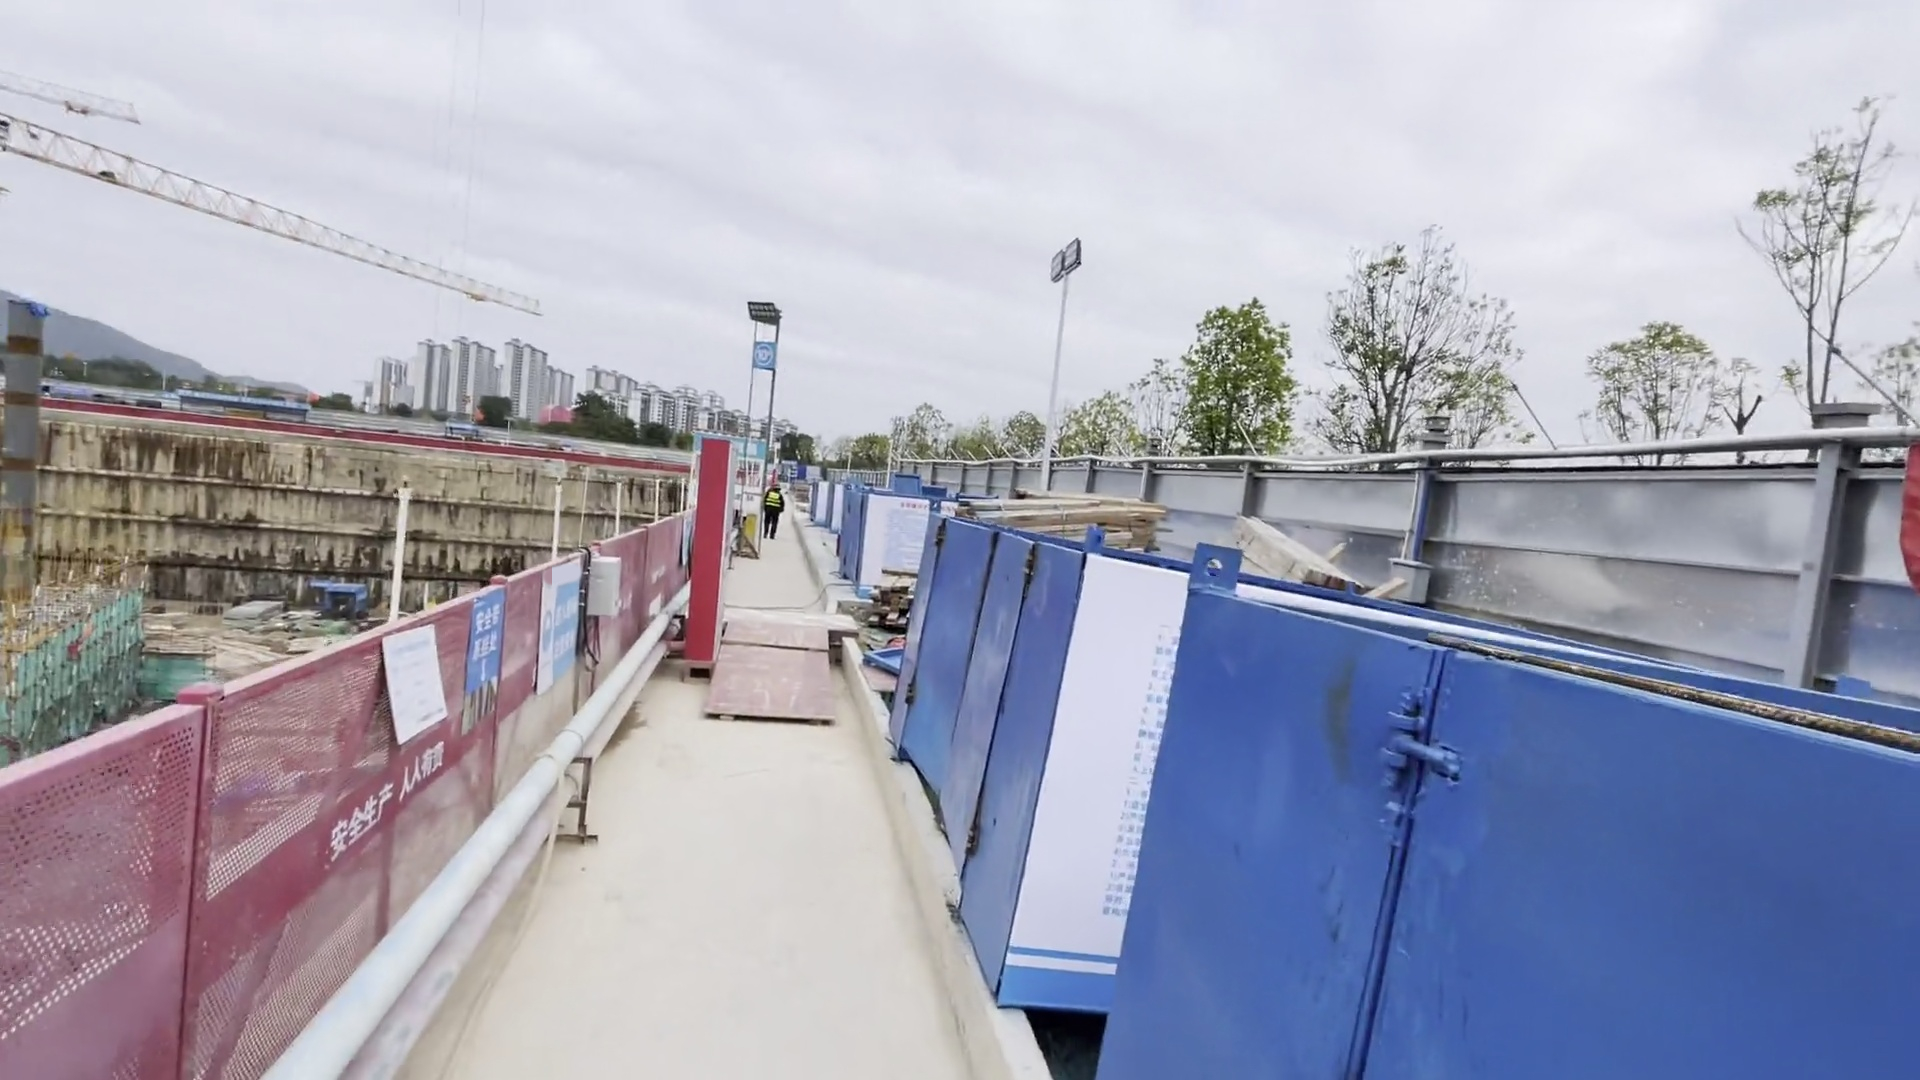fence: (45, 524, 692, 1071)
helmet: (771, 480, 782, 492)
person: (763, 478, 789, 542)
